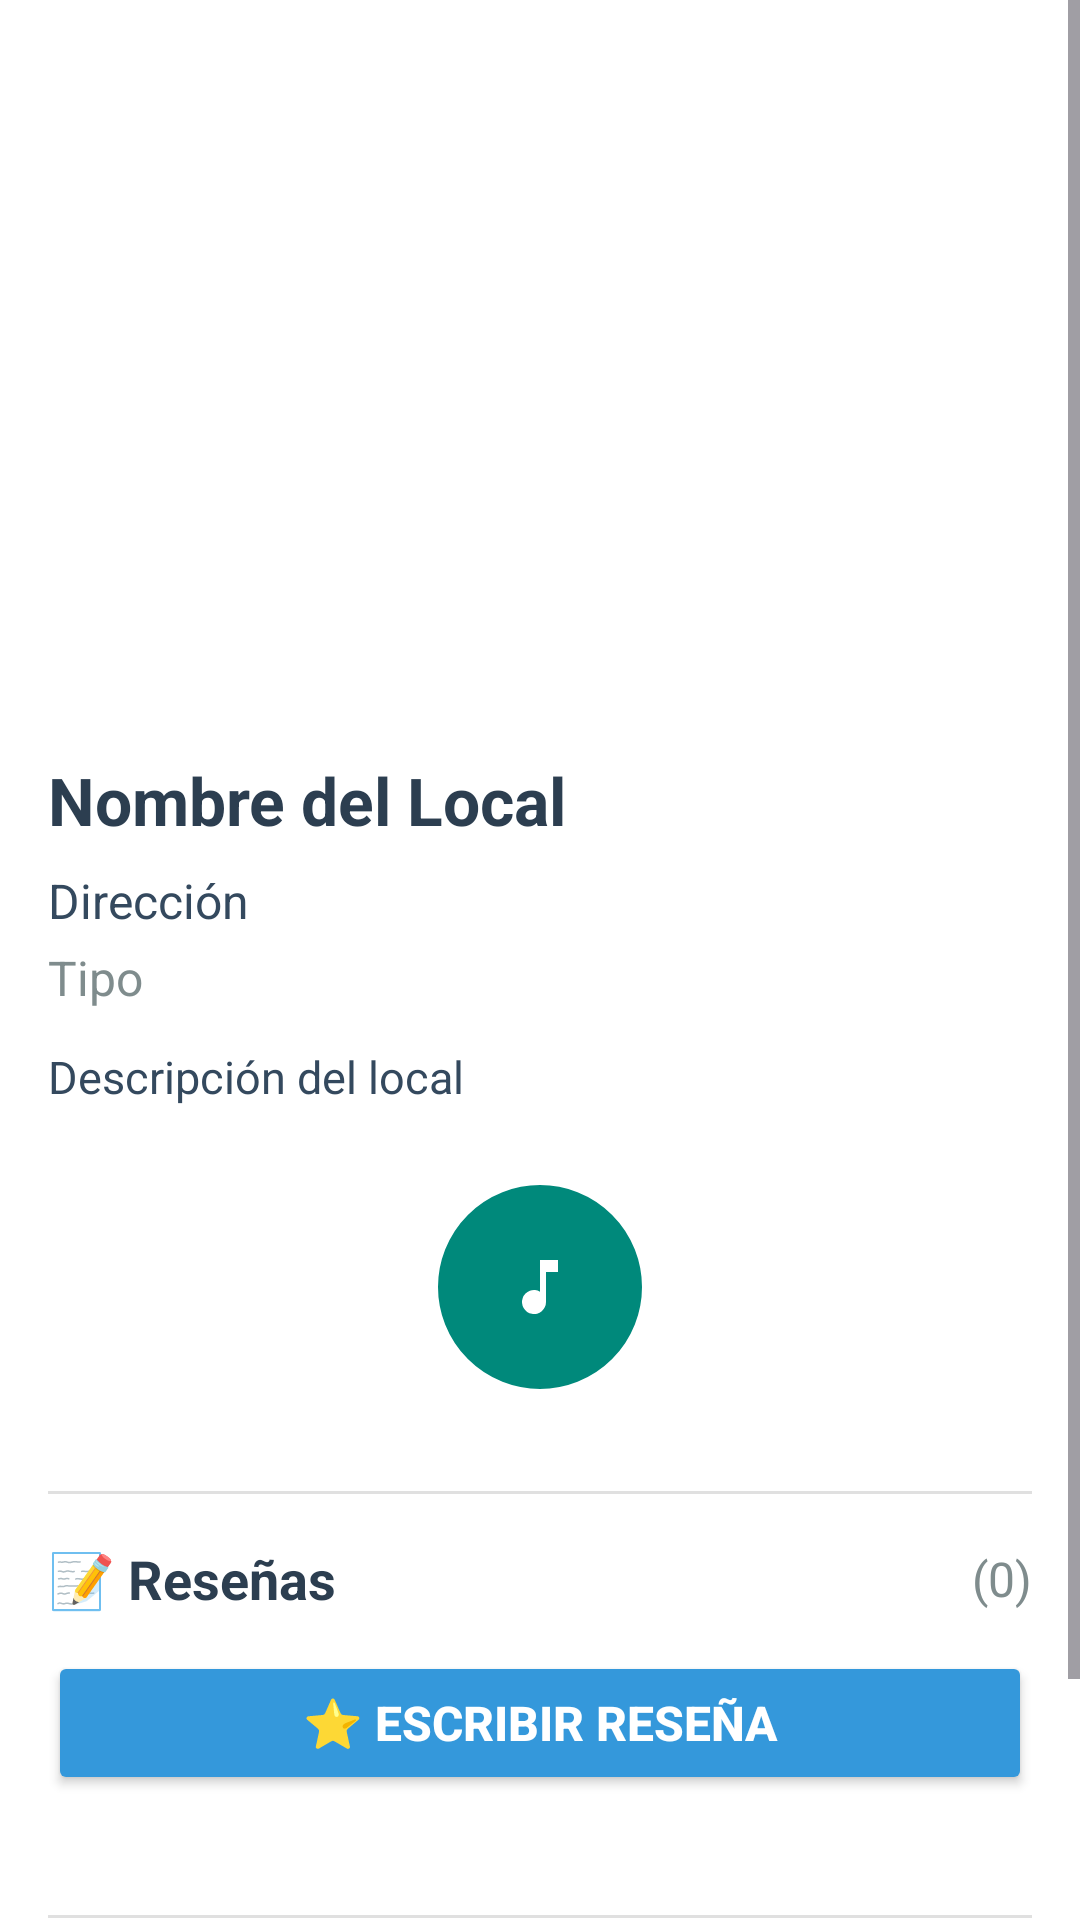

Icons on this 1080w x 1920h Android screen, each with the point to tap as point (x, y):
Reproducir música: point (540, 1287)
